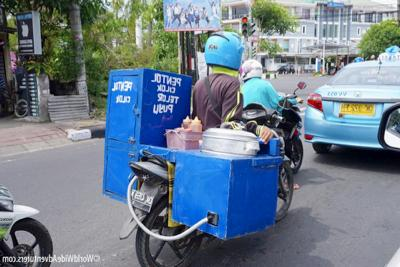With Helmet: (199, 29, 250, 75)
